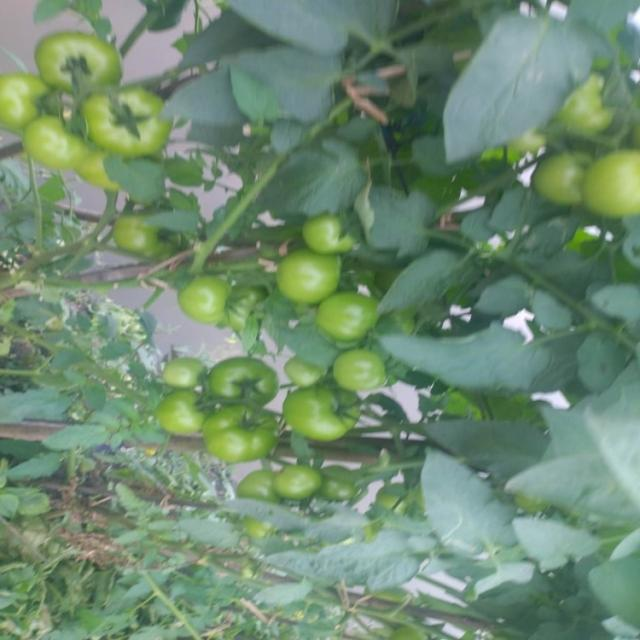tomato: (80, 82, 178, 160), (32, 31, 131, 103), (310, 326, 403, 396), (269, 242, 362, 311), (264, 377, 362, 440), (583, 147, 640, 234), (203, 396, 273, 462), (107, 212, 188, 269), (206, 346, 279, 407), (1, 70, 67, 137), (530, 142, 595, 207), (179, 275, 241, 343), (312, 283, 384, 341), (302, 212, 377, 264), (153, 384, 215, 443), (13, 113, 79, 167), (559, 77, 613, 137), (274, 458, 330, 510), (52, 148, 121, 186), (156, 347, 209, 392), (279, 353, 330, 399), (239, 463, 273, 509)
